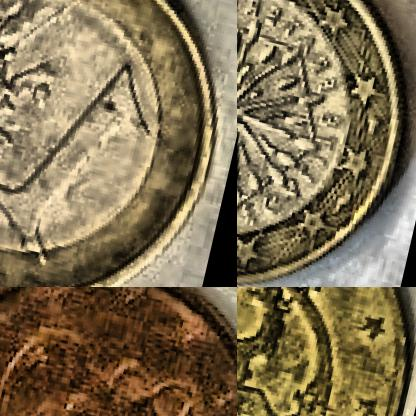coin: (0, 0, 236, 286), (237, 0, 415, 286), (0, 287, 236, 415), (237, 287, 415, 415)
